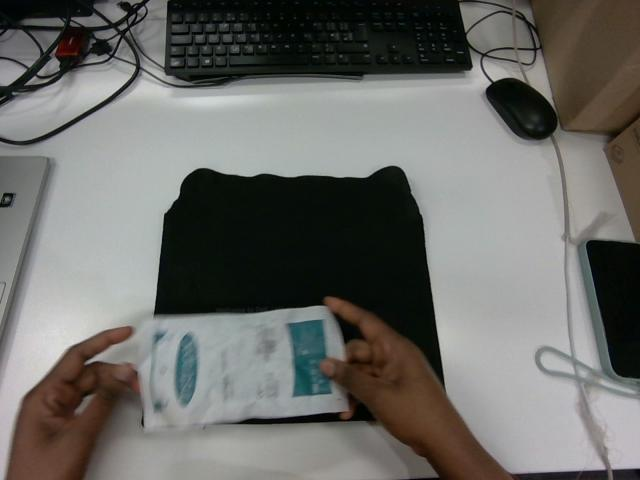gallipot: (138, 306, 347, 428)
